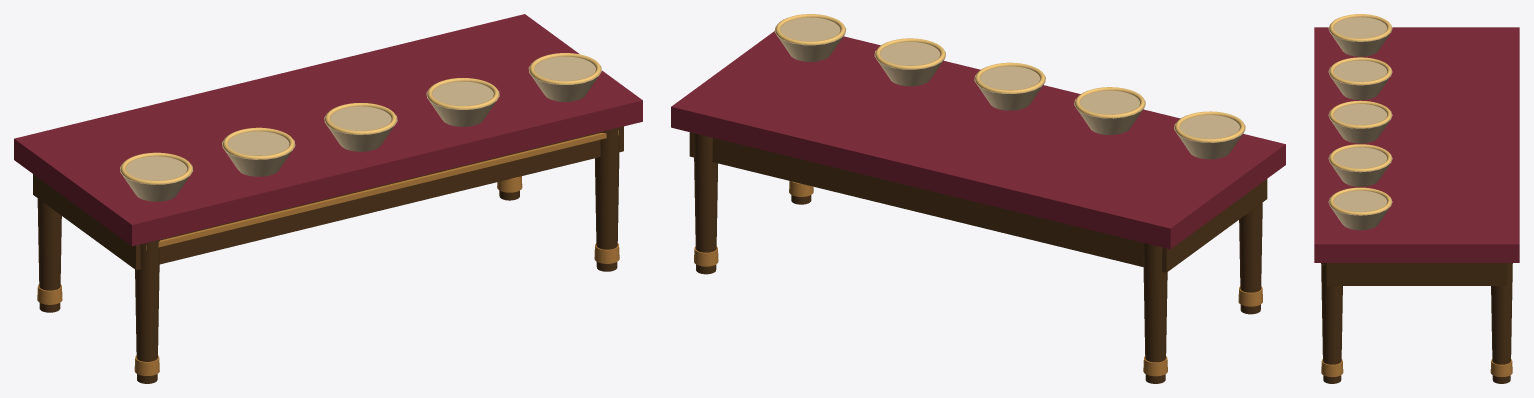
The model's file is mia-jesa_table.glb.
3 renders of one model, left to right at view 1: azimuth 30°, elevation 25°; view 2: azimuth 150°, elevation 25°; view 3: azimuth 270°, elevation 25°, orthographic. The views are drawn at different scales.
Parts seen in each view (by area): view 1: Body_velvet, Body_wood, Body_ivory, Body_brass, Body_trim; view 2: Body_velvet, Body_wood, Body_ivory, Body_trim, Body_brass; view 3: Body_velvet, Body_ivory, Body_wood, Body_trim, Body_brass.
Boxes of the visible parts, bbox=[...] form: Body_velvet: bbox=[14, 14, 642, 246]; Body_wood: bbox=[33, 126, 623, 383]; Body_ivory: bbox=[120, 56, 601, 201]; Body_brass: bbox=[37, 130, 619, 375]; Body_trim: bbox=[120, 53, 601, 184]; Body_velvet: bbox=[671, 31, 1285, 249]; Body_wood: bbox=[689, 132, 1267, 383]; Body_ivory: bbox=[774, 17, 1245, 159]; Body_trim: bbox=[775, 14, 1244, 142]; Body_brass: bbox=[694, 181, 1262, 376]; Body_velvet: bbox=[1314, 27, 1519, 262]; Body_ivory: bbox=[1328, 17, 1392, 230]; Body_wood: bbox=[1321, 263, 1512, 383]; Body_trim: bbox=[1329, 14, 1391, 215]; Body_brass: bbox=[1321, 264, 1512, 377].
Bounding box in the file's own units: 2 × 0.7279 × 0.8.
